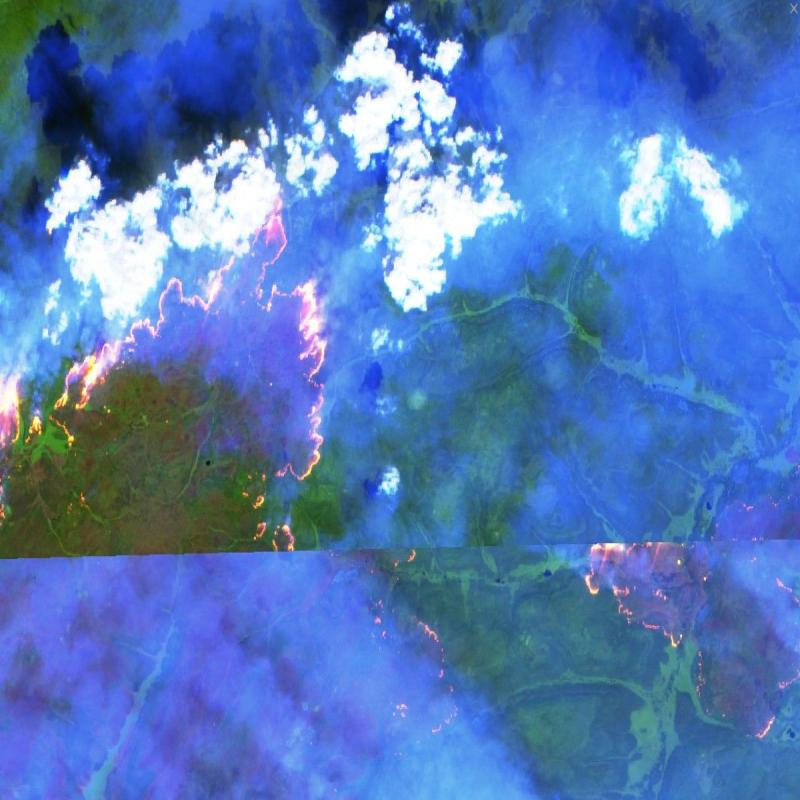fire: (0, 171, 337, 572), (576, 523, 800, 757)
